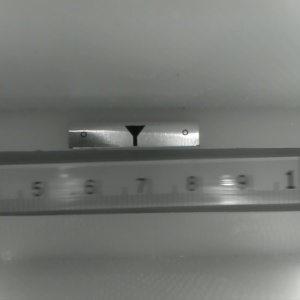1: (285, 169, 296, 189), (135, 177, 146, 192)
finger: (123, 126, 146, 146)
